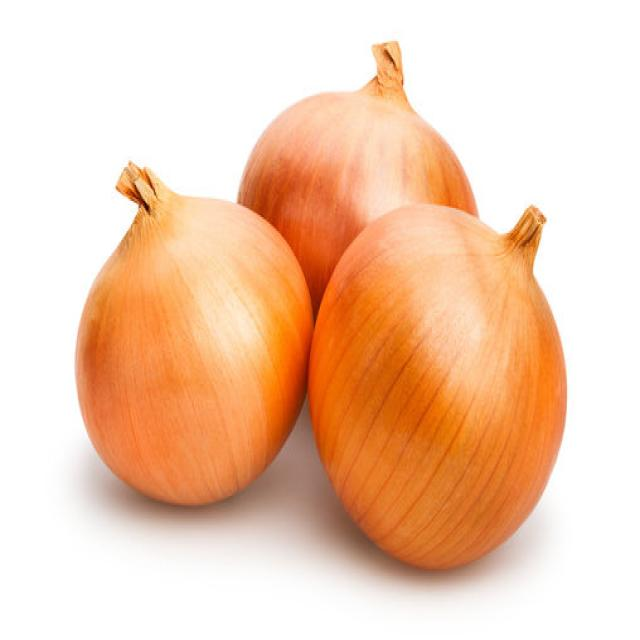Onion: (306, 199, 567, 571), (73, 158, 314, 507), (236, 39, 478, 317)
